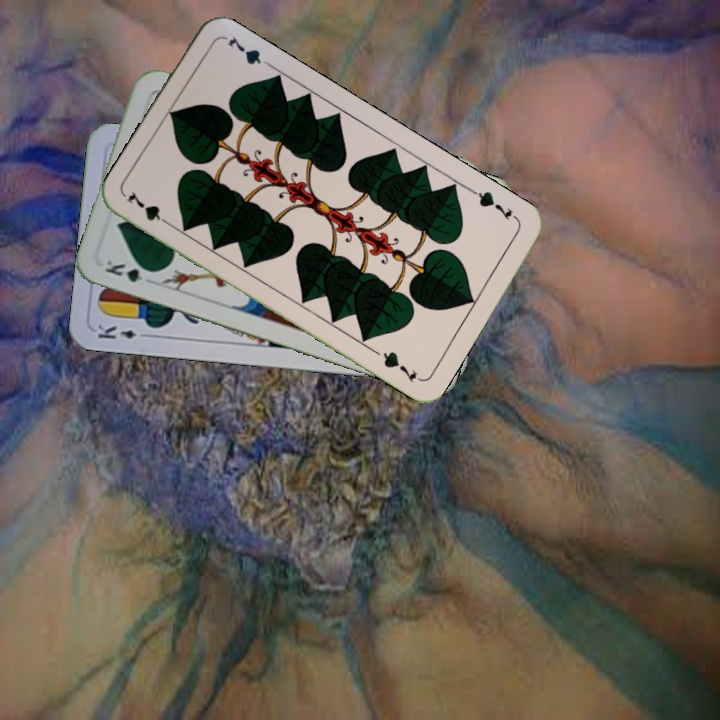EK: (93, 320, 152, 342)
G7: (123, 188, 175, 230), (468, 185, 521, 223)
GK: (100, 255, 159, 287)
